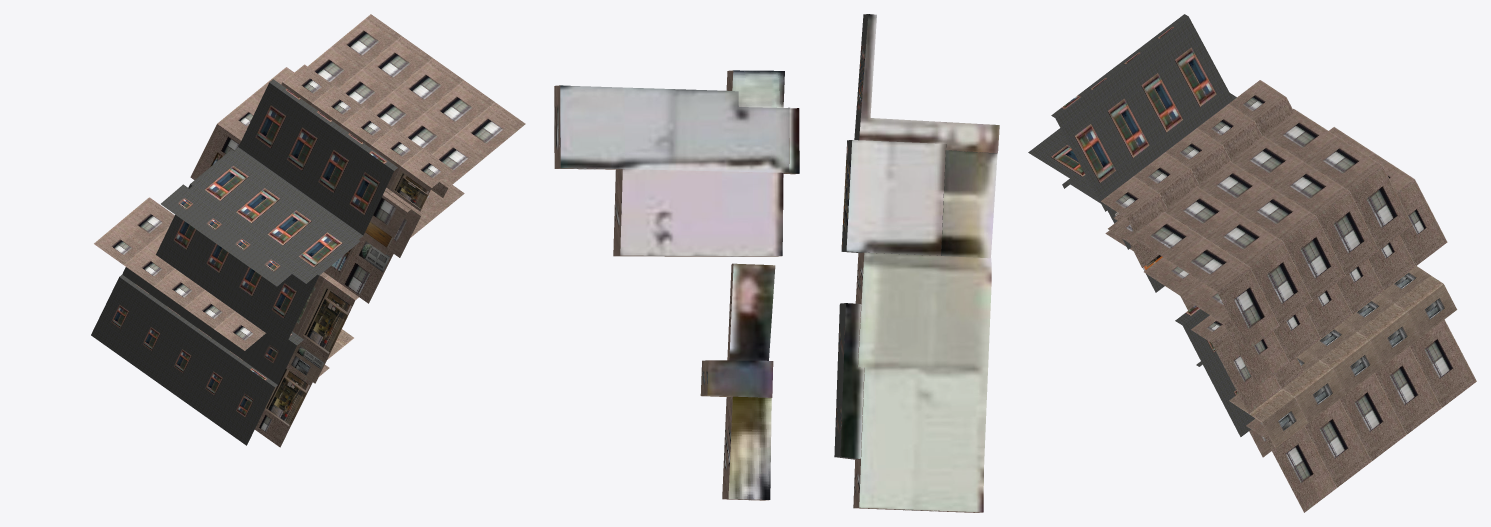
The picture shows the model from 3 angles, left to right: view 1: azimuth 30°, elevation 25°; view 2: azimuth 150°, elevation 25°; view 3: azimuth 270°, elevation 25°; orthographic projection. The views are drawn at different scales.
Size of the model in its own units: 44.1 by 39.02 by 34.72.
42 materials, 42 textured.
